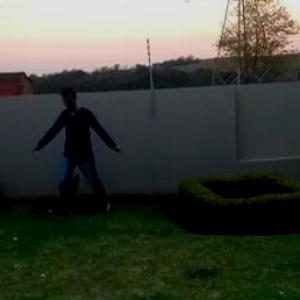land: (31, 97, 122, 223)
